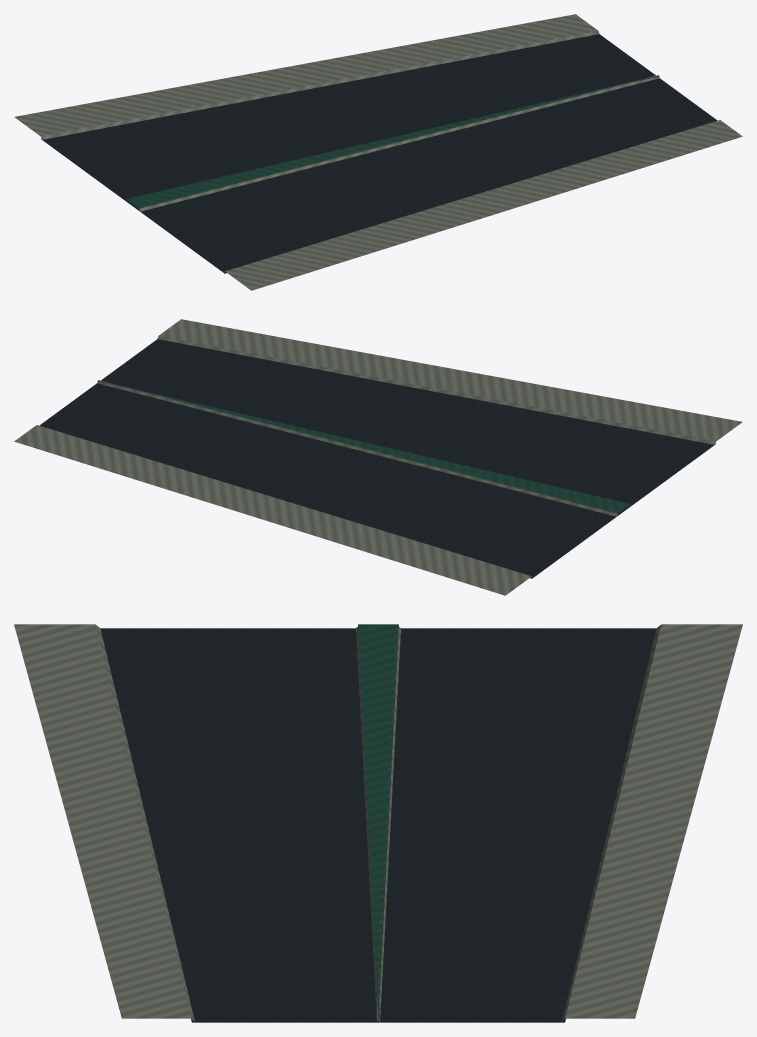
File: road_taper_6to4_32m_ShadowProxy.glb
The picture shows the model from 3 angles, top to bottom: view 1: azimuth 30°, elevation 25°; view 2: azimuth 150°, elevation 25°; view 3: azimuth 270°, elevation 25°; orthographic projection. The views are drawn at different scales.
Visible parts, largest first — view 1: road_taper_6to4_32m__surface.003; view 2: road_taper_6to4_32m__surface.003; view 3: road_taper_6to4_32m__surface.003.
Boxes of the visible parts, <box> form: road_taper_6to4_32m__surface.003: <box>14,14,742,290</box>; road_taper_6to4_32m__surface.003: <box>14,319,742,595</box>; road_taper_6to4_32m__surface.003: <box>14,624,742,1022</box>.
Size of the model in its own units: 32 by 0.15 by 25.
Materials: 4 (4 with a texture image).
